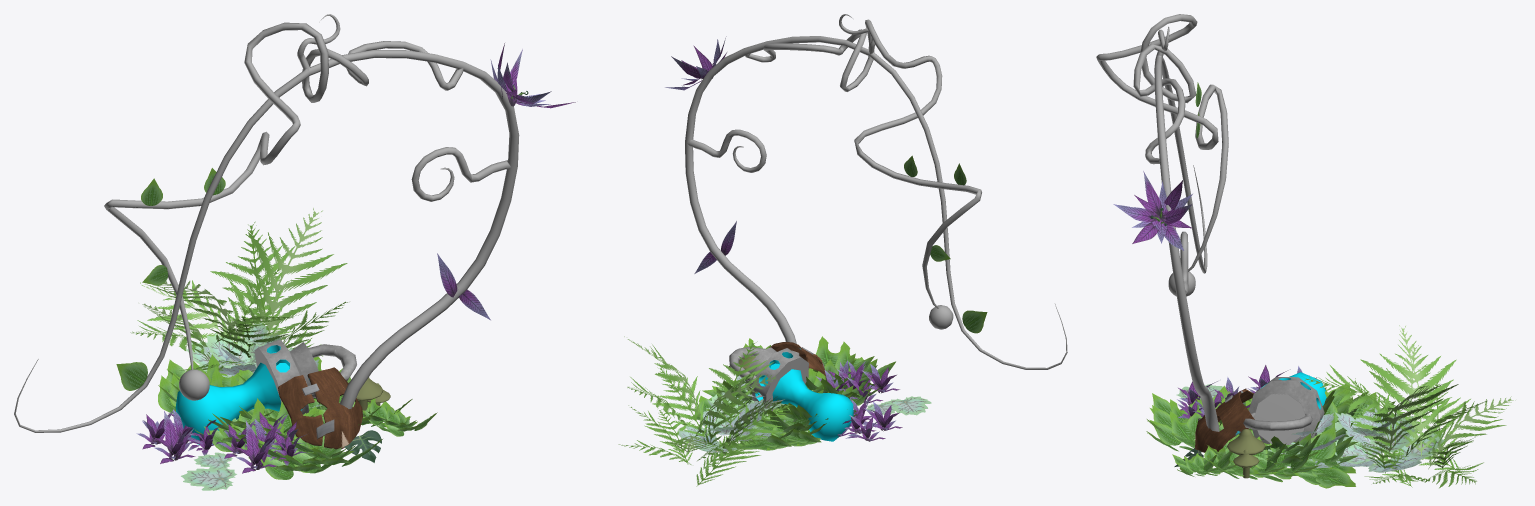
Rendered from title.fbx.
3 renders of one model, left to right at view 1: azimuth 30°, elevation 25°; view 2: azimuth 150°, elevation 25°; view 3: azimuth 270°, elevation 25°, orthographic. The views are drawn at different scales.
Visible parts, largest first — view 1: racine, feuillage_1_petit1, lantern, masque, feuillage_2_petit1, feuillage_3_grand1, feuillage_2_petit, feuillage_4_grand7, feuillage_4_grand6, feuillage_4_grand5, feuillage_2_lighter1, pPlane44 (+5 smaller); view 2: racine, feuillage_1_petit1, lantern, feuillage_3_grand1, feuillage_2_petit1, feuillage_2_petit, feuillage_4_grand11, feuillage_4_grand9, feuillage_4_grand7, feuillage_4_grand6, feuillage_2_lighter1, feuillage_4_grand8 (+2 smaller); view 3: racine, feuillage_1_petit1, lantern, feuillage_3_grand1, feuillage_4_grand4, feuillage_2_lighter1, masque, feuillage_4_grand6, feuillage_4_grand5, feuillage_2_petit1, feuillage_4_grand3, feuillage_4_grand1 (+3 smaller).
Part boxes in pixels (box(x1,y1,x2,y2)): racine: box(14, 14, 519, 432); feuillage_1_petit1: box(130, 208, 347, 373); lantern: box(175, 339, 356, 444); masque: box(278, 367, 362, 449); feuillage_2_petit1: box(218, 412, 307, 473); feuillage_3_grand1: box(186, 322, 323, 422); feuillage_2_petit: box(136, 409, 225, 463); feuillage_4_grand7: box(212, 398, 355, 479); feuillage_4_grand6: box(238, 401, 382, 473); feuillage_4_grand5: box(352, 398, 437, 436); feuillage_2_lighter1: box(490, 43, 575, 108); pPlane44: box(181, 468, 236, 490); racine: box(685, 14, 1067, 369); feuillage_1_petit1: box(618, 336, 792, 486); lantern: box(729, 347, 853, 441); feuillage_3_grand1: box(678, 375, 788, 452); feuillage_2_petit1: box(815, 360, 899, 403); feuillage_2_petit: box(837, 398, 902, 441); feuillage_4_grand11: box(728, 388, 842, 450); feuillage_4_grand9: box(772, 371, 871, 446); feuillage_4_grand7: box(816, 341, 895, 398); feuillage_4_grand6: box(787, 336, 874, 407); feuillage_2_lighter1: box(665, 36, 726, 90); feuillage_4_grand8: box(764, 368, 862, 443); racine: box(1096, 14, 1228, 431); feuillage_1_petit1: box(1304, 325, 1515, 488); lantern: box(1243, 372, 1326, 444); feuillage_3_grand1: box(1267, 405, 1444, 472); feuillage_4_grand4: box(1207, 427, 1357, 488); feuillage_2_lighter1: box(1113, 171, 1192, 250); masque: box(1195, 388, 1254, 452); feuillage_4_grand6: box(1146, 397, 1249, 451); feuillage_4_grand5: box(1172, 445, 1258, 476); feuillage_2_petit1: box(1177, 377, 1250, 418); feuillage_4_grand3: box(1207, 413, 1357, 473); feuillage_4_grand1: box(1249, 428, 1303, 474).
Size of the model in its own units: 7.43 by 6.61 by 5.74.
